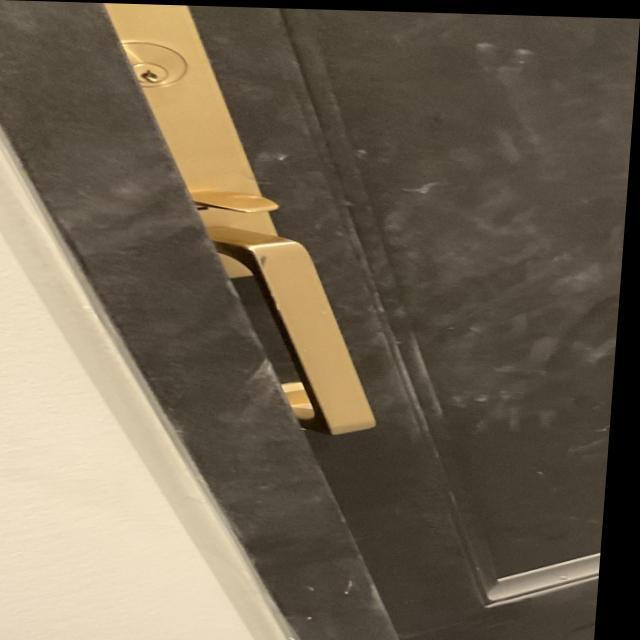door_handle: (198, 227, 428, 439)
